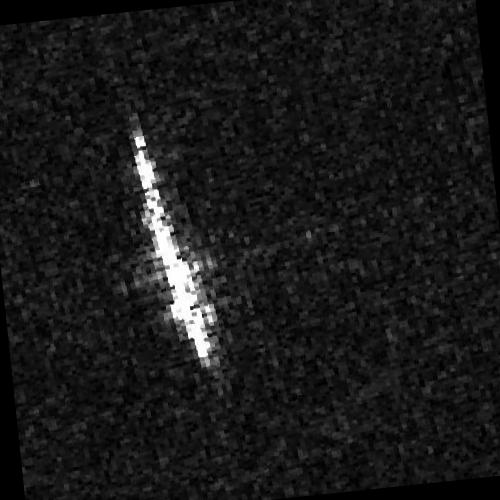ship: (129, 129, 212, 367)
